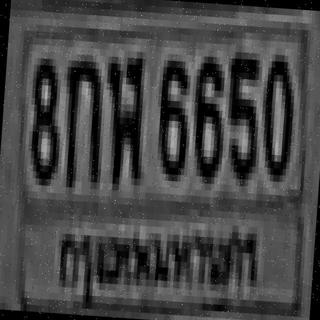A01: (58, 53, 104, 182)
A42: (100, 50, 146, 178)
N00: (258, 47, 294, 176)
N05: (220, 45, 260, 180)
N06: (153, 53, 192, 175), (190, 49, 226, 178)
N08: (26, 51, 62, 179)
P04: (51, 205, 267, 302)
